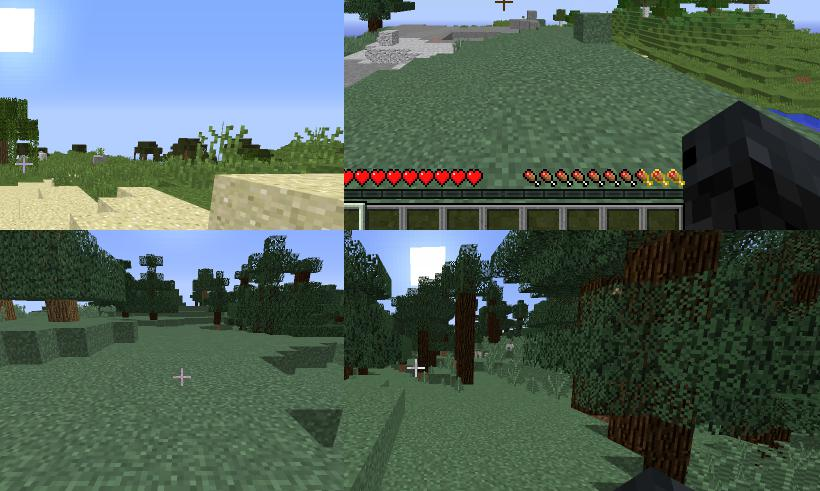minecraft-blocks: (605, 411, 687, 491), (456, 294, 478, 383), (47, 301, 81, 324), (1, 298, 16, 324), (1, 140, 10, 167), (370, 22, 383, 34), (214, 313, 222, 326), (643, 8, 650, 20), (751, 5, 760, 14), (708, 9, 716, 16), (123, 313, 131, 320), (150, 314, 158, 321), (203, 292, 209, 300)
